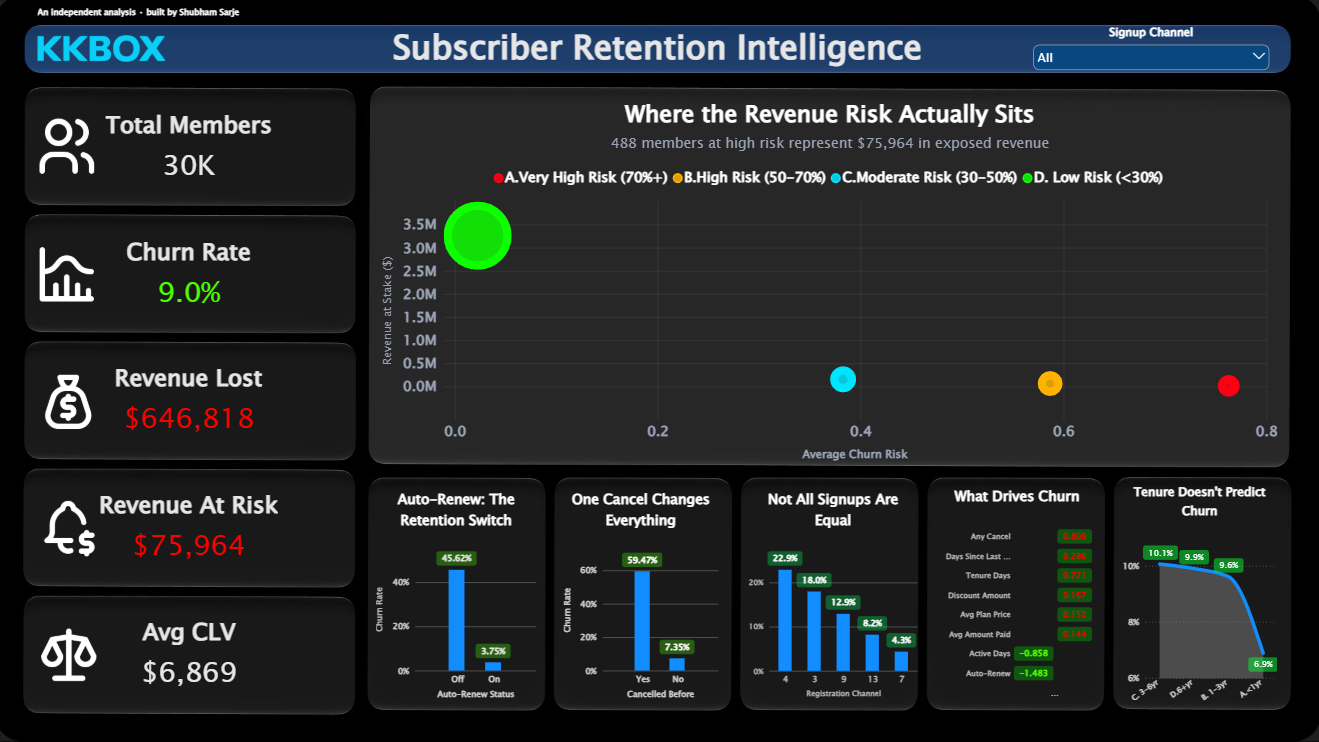

What the dashboard file says about the page in this screenshot:
{"tool":"powerbi","page":{"name":"Page 1","canvas":[1920,1080],"ordinal":0},"visuals":[{"type":"cardVisual","title":"Total Members","fields":{"Data":["_Measures.Total Members"]},"box":[48,128,464,176],"z":0},{"type":"cardVisual","title":"Total Members","fields":{"Data":["_Measures.Churn Rate"]},"box":[48,320,464,160],"z":1000},{"type":"cardVisual","title":"Total Members","fields":{"Data":["_Measures.Revenue Lost"]},"box":[48,496,464,176],"z":2000},{"type":"cardVisual","title":"Total Members","fields":{"Data":["_Measures.Avg CLV"]},"box":[48,864,464,176],"z":3000},{"type":"cardVisual","title":"Total Members","fields":{"Data":["_Measures.Revenue At Risk"]},"box":[48,688,464,160],"z":4000},{"type":"scatterChart","title":"Where the Revenue Risk Actually Sits","fields":{"Series":["members.Risk Tier"],"Size":["_Measures.Risk Tier Member Count"],"X":["_Measures.Risk Tier Avg Risk"],"Y":["_Measures.Risk Tier Revenue"]},"box":[544,128,1328,560],"z":5000},{"type":"columnChart","title":"Auto-Renew: The Retention Switch","fields":{"Category":["members.Auto Renew Label"],"Y":["_Measures.Churn Rate"]},"box":[536,696,264,336],"z":6000},{"type":"columnChart","title":"One Cancel Changes Everything","fields":{"Category":["members.Cancel Label"],"Y":["_Measures.Churn Rate"]},"box":[808,696,256,336],"z":7000},{"type":"clusteredColumnChart","title":"Not All Signups Are Equal","fields":{"Category":["Channel Impact.registered_via"],"Y":["Sum(Channel Impact.Churn Rate)"]},"box":[1074.9,696.7,276.9,334.8],"z":8000},{"type":"barChart","title":"What Drives Churn","fields":{"Category":["Feature Importance2.Feature"],"Y":["Sum(Feature Importance2.Coefficient)"]},"box":[1352,696,256,336],"z":9000},{"type":"lineChart","title":"Tenure Doesn''t Predict Churn","fields":{"Category":["members.Tenure Cohort1"],"Y":["_Measures.Churn Rate"]},"box":[1616,688,256,352],"z":10000},{"type":"slicer","title":"Signup Channel","fields":{"Values":["members.registered_via"]},"box":[1498.4,38,351.1,88.7],"z":11000},{"type":"image","box":[52.5,166.5,103.2,95.9],"z":12000},{"type":"image","box":[54.3,352.9,99.5,94.1],"z":13000},{"type":"image","box":[52.5,537.5,106.8,94.1],"z":14000},{"type":"image","box":[54.3,720.2,103.2,92.3],"z":15000},{"type":"image","box":[52.5,904.8,108.6,95.9],"z":16000},{"type":"image","box":[61.5,50.7,184.6,45.2],"z":17000},{"type":"textbox","box":[555.6,36.2,807.1,74.2],"z":18000},{"type":"textbox","box":[61.5,9,371,29],"z":19000}]}

Visuals, with their boxes in screenshot pixels (x1, y1, x2, y2), scaled from the page's 1920x1080 canvas onto the 1319x742 screenshot:
"Total Members" cardVisual: x1=33 y1=88 x2=352 y2=209
"Total Members" cardVisual: x1=33 y1=220 x2=352 y2=330
"Total Members" cardVisual: x1=33 y1=341 x2=352 y2=462
"Total Members" cardVisual: x1=33 y1=594 x2=352 y2=715
"Total Members" cardVisual: x1=33 y1=473 x2=352 y2=583
"Where the Revenue Risk Actually Sits" scatterChart: x1=374 y1=88 x2=1286 y2=473
"Auto-Renew: The Retention Switch" columnChart: x1=368 y1=478 x2=550 y2=709
"One Cancel Changes Everything" columnChart: x1=555 y1=478 x2=731 y2=709
"Not All Signups Are Equal" clusteredColumnChart: x1=738 y1=479 x2=929 y2=709
"What Drives Churn" barChart: x1=929 y1=478 x2=1105 y2=709
"Tenure Doesn''t Predict Churn" lineChart: x1=1110 y1=473 x2=1286 y2=715
"Signup Channel" slicer: x1=1029 y1=26 x2=1271 y2=87
image: x1=36 y1=114 x2=107 y2=180
image: x1=37 y1=242 x2=106 y2=307
image: x1=36 y1=369 x2=109 y2=434
image: x1=37 y1=495 x2=108 y2=558
image: x1=36 y1=622 x2=111 y2=688
image: x1=42 y1=35 x2=169 y2=66
textbox: x1=382 y1=25 x2=936 y2=76
textbox: x1=42 y1=6 x2=297 y2=26
